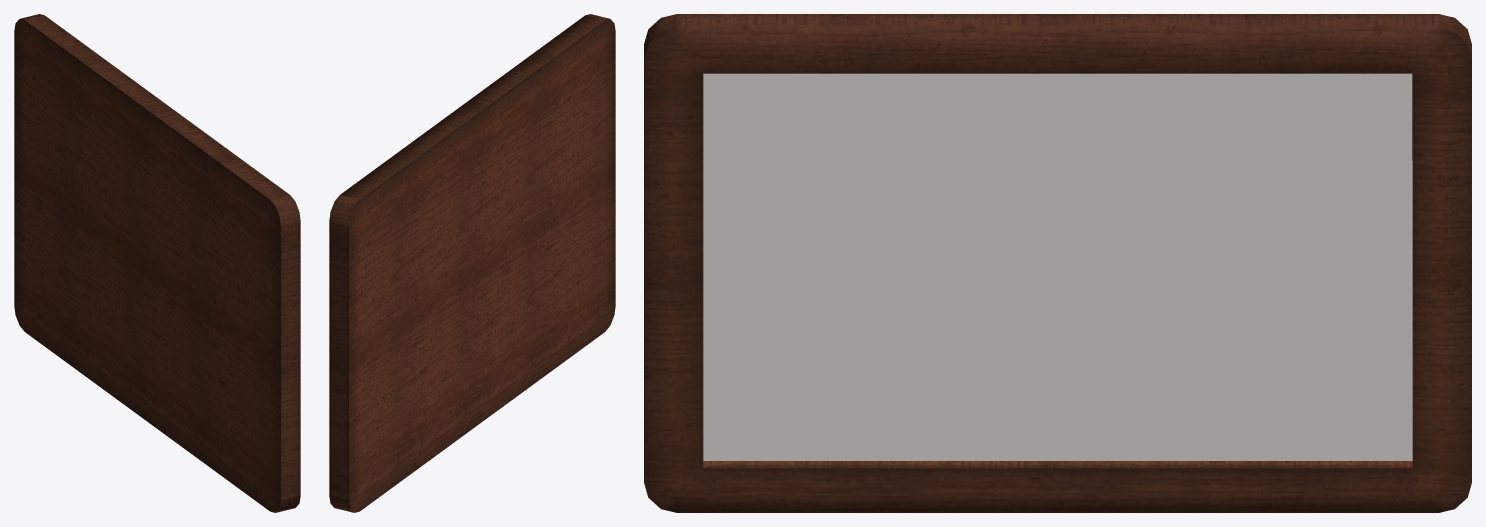
File: TABULE.fbx
3 renders of one model, left to right at view 1: azimuth 30°, elevation 25°; view 2: azimuth 150°, elevation 25°; view 3: azimuth 270°, elevation 25°, orthographic. The views are drawn at different scales.
Parts seen in each view (by area): view 1: Krychle; view 2: Krychle; view 3: Krychle.
Part boxes in pixels (x1=…): Krychle: x1=14, y1=14, x2=300, y2=512; Krychle: x1=329, y1=14, x2=615, y2=512; Krychle: x1=644, y1=14, x2=1471, y2=512.
Bounding box in the file's own units: 14.8 × 200 × 310.
1 material, 1 textured.
